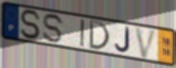D: (88, 19, 112, 52)
I: (79, 18, 86, 49)
J: (114, 26, 131, 54)
S: (19, 9, 43, 41), (42, 13, 66, 44)
V: (134, 26, 159, 60)
